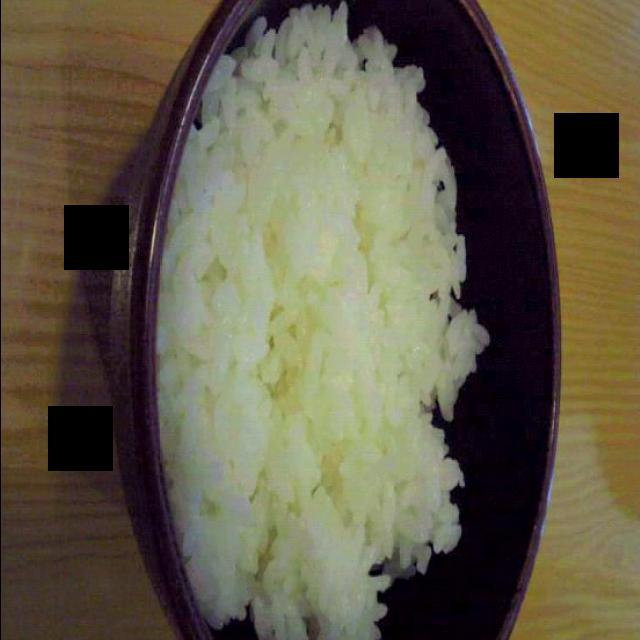rice: (166, 7, 501, 640)
